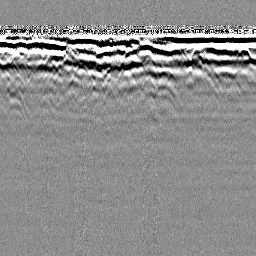cavity: (119, 46, 136, 68)
